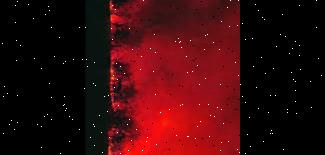fire: (102, 0, 138, 155)
